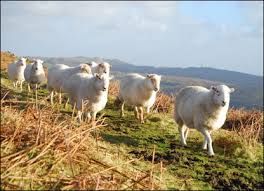sheep: (171, 85, 235, 151), (66, 71, 112, 125), (117, 71, 161, 122), (49, 58, 92, 102), (26, 58, 52, 97), (7, 55, 30, 90)
